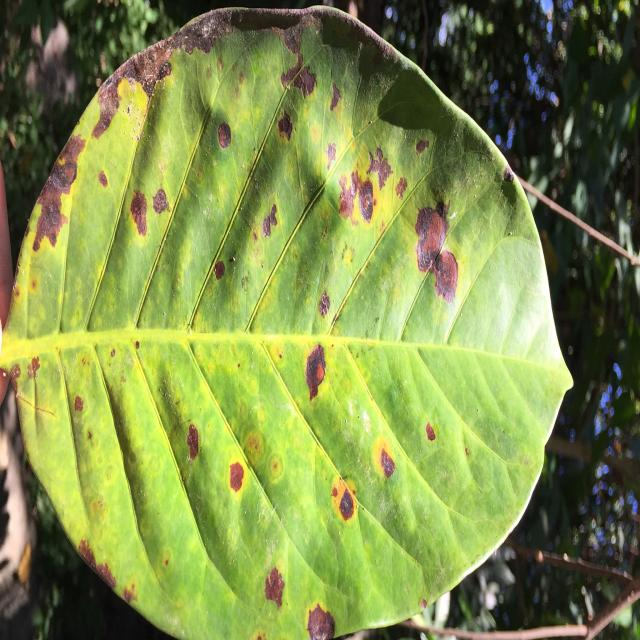Enfermedad-Mancha-de-hierro: (0, 9, 572, 640)
